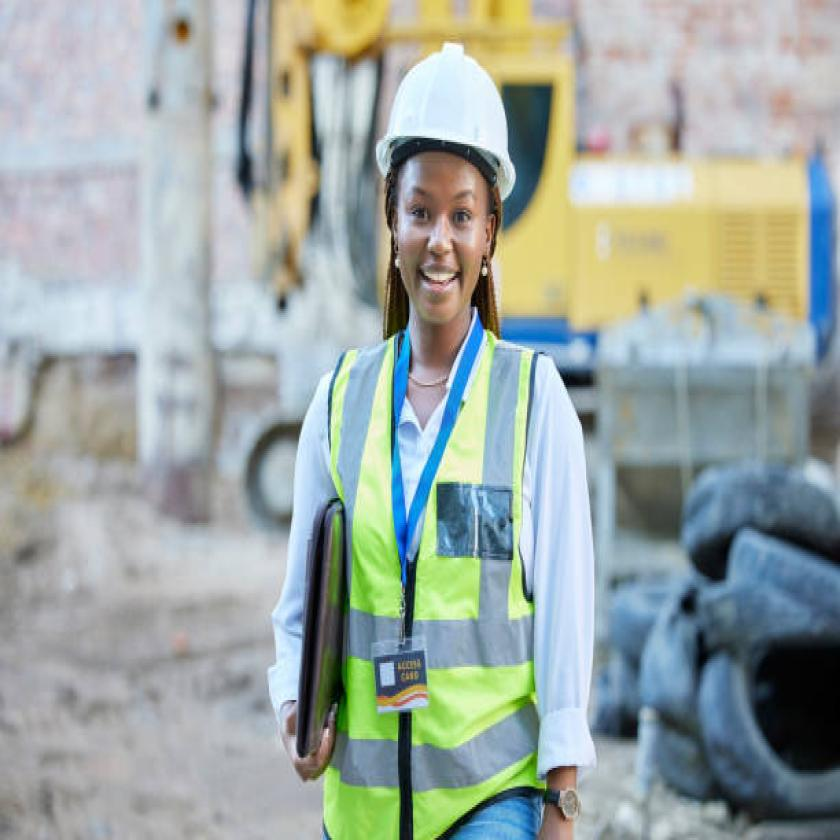Con_casco: (381, 42, 523, 330)
